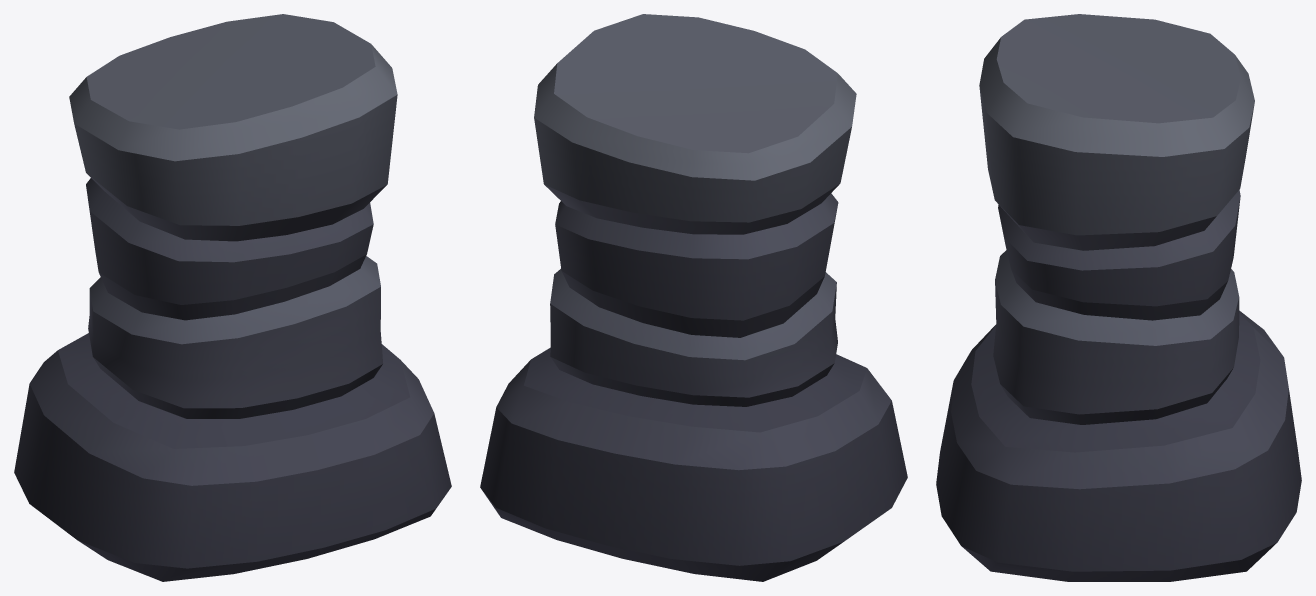
File: rock_big_B_gray_4.glb
3 views of the same model, side by side, from view 1: azimuth 30°, elevation 25°; view 2: azimuth 150°, elevation 25°; view 3: azimuth 270°, elevation 25° (orthographic). The views are drawn at different scales.
Parts seen in each view (by area): view 1: rock_big_B_gray_4; view 2: rock_big_B_gray_4; view 3: rock_big_B_gray_4.
Boxes of the visible parts, x1,y1,x2,y2 form: rock_big_B_gray_4: [14, 14, 451, 581]; rock_big_B_gray_4: [480, 14, 907, 581]; rock_big_B_gray_4: [936, 14, 1301, 581].
Size of the model in its own units: 5.32 by 6.37 by 4.65.
Materials: 1 (1 with a texture image).
